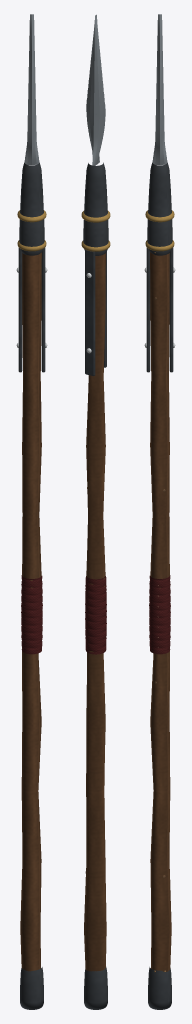
The model's file is javelin.glb.
3 renders of one model, left to right at view 1: azimuth 90°, elevation 25°; view 2: azimuth 150°, elevation 25°; view 3: azimuth 270°, elevation 25°, orthographic.
Visible parts, largest first — view 1: wood / oiled hardwood, darksteel / oil-blackened fittings, cord / waxed silk cord wrap, steel / forged blade steel, brass / polished brass furniture; view 2: wood / oiled hardwood, darksteel / oil-blackened fittings, steel / forged blade steel, cord / waxed silk cord wrap, brass / polished brass furniture; view 3: wood / oiled hardwood, darksteel / oil-blackened fittings, cord / waxed silk cord wrap, steel / forged blade steel, brass / polished brass furniture.
Part boxes in pixels (<box>): wood / oiled hardwood: <box>20,252,41,971</box>; darksteel / oil-blackened fittings: <box>18,162,45,1009</box>; cord / waxed silk cord wrap: <box>21,575,42,654</box>; steel / forged blade steel: <box>24,14,39,164</box>; brass / polished brass furniture: <box>17,210,46,251</box>; wood / oiled hardwood: <box>84,253,106,971</box>; darksteel / oil-blackened fittings: <box>83,162,108,1009</box>; steel / forged blade steel: <box>86,14,105,165</box>; cord / waxed silk cord wrap: <box>85,576,106,654</box>; brass / polished brass furniture: <box>81,210,110,251</box>; wood / oiled hardwood: <box>150,252,171,971</box>; darksteel / oil-blackened fittings: <box>146,162,173,1009</box>; cord / waxed silk cord wrap: <box>149,575,170,654</box>; steel / forged blade steel: <box>152,14,167,164</box>; brass / polished brass furniture: <box>145,210,174,251</box>.
Bounding box in the file's own units: 0.042 × 1.58 × 0.044.
9 materials, 6 textured.
